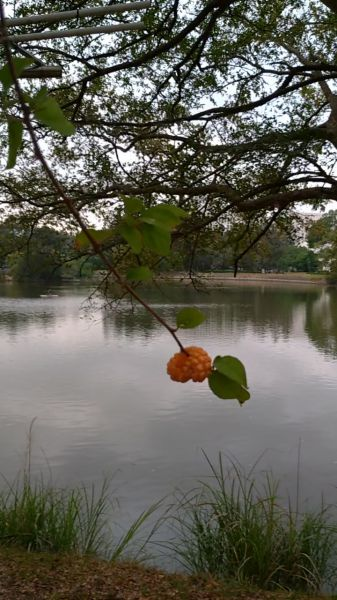eggs: (161, 340, 217, 388)
